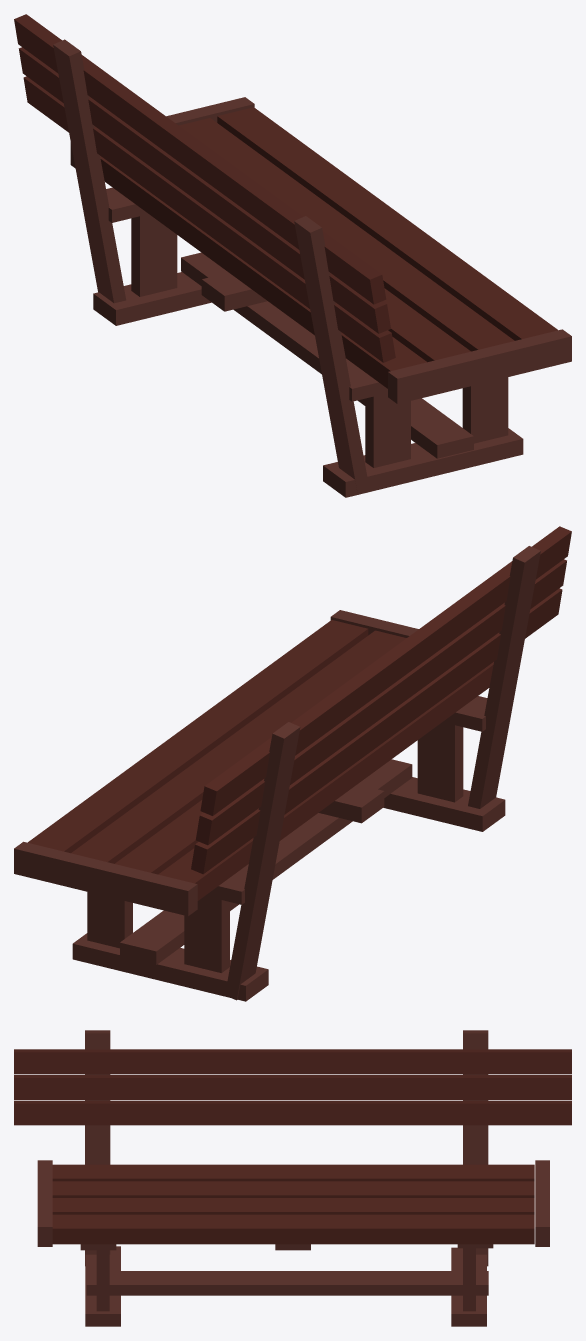
Rendered from bench.fbx.
3 views of the same model, one above another, from view 1: azimuth 30°, elevation 25°; view 2: azimuth 150°, elevation 25°; view 3: azimuth 270°, elevation 25° (orthographic). The views are drawn at different scales.
Parts seen in each view (by area): view 1: Cube.013, Cube.021, Cube.010, Cube.020, Cube.019, Cube.014, Cube.016, Cube.008, Cube.001, Cube.026, Cube.004, Cube.005 (+8 smaller); view 2: Cube.013, Cube.021, Cube.010, Cube.020, Cube.019, Cube.016, Cube.008, Cube.014, Cube.006, Cube.026, Cube.003, Cube.011 (+8 smaller); view 3: Cube.013, Cube.021, Cube.019, Cube.020, Cube.026, Cube.008, Cube.009, Cube.010, Cube.016, Cube.014, Cube.004, Cube.003 (+4 smaller).
Boxes of the visible parts, box(x1,y1,x2,y2) form: Cube.013: box(217, 107, 557, 340); Cube.021: box(14, 14, 386, 304); Cube.010: box(179, 118, 514, 351); Cube.020: box(18, 47, 390, 333); Cube.019: box(23, 76, 395, 362); Cube.014: box(294, 216, 369, 494); Cube.016: box(53, 39, 126, 303); Cube.008: box(100, 156, 426, 388); Cube.001: box(388, 329, 571, 403); Cube.026: box(181, 252, 473, 458); Cube.004: box(323, 428, 523, 497); Cube.005: box(131, 214, 177, 296); Cube.013: box(28, 620, 368, 853); Cube.021: box(200, 526, 571, 815); Cube.010: box(71, 630, 406, 863); Cube.020: box(195, 559, 566, 845); Cube.019: box(191, 588, 562, 874); Cube.016: box(225, 722, 300, 1000); Cube.008: box(158, 662, 493, 900); Cube.014: box(468, 546, 540, 808); Cube.006: box(14, 841, 197, 916); Cube.026: box(120, 759, 412, 964); Cube.003: box(72, 933, 268, 1001); Cube.011: box(417, 722, 463, 802); Cube.013: box(52, 1214, 534, 1244); Cube.021: box(14, 1049, 571, 1074); Cube.019: box(14, 1100, 571, 1125); Cube.020: box(14, 1075, 571, 1099); Cube.026: box(86, 1271, 488, 1295); Cube.008: box(52, 1164, 534, 1181); Cube.009: box(52, 1181, 534, 1197); Cube.010: box(52, 1198, 534, 1214); Cube.016: box(463, 1030, 488, 1266); Cube.014: box(85, 1030, 110, 1265); Cube.004: box(85, 1246, 120, 1326); Cube.003: box(451, 1247, 486, 1326).
Size of the model in its own units: 154 by 175 by 409.
